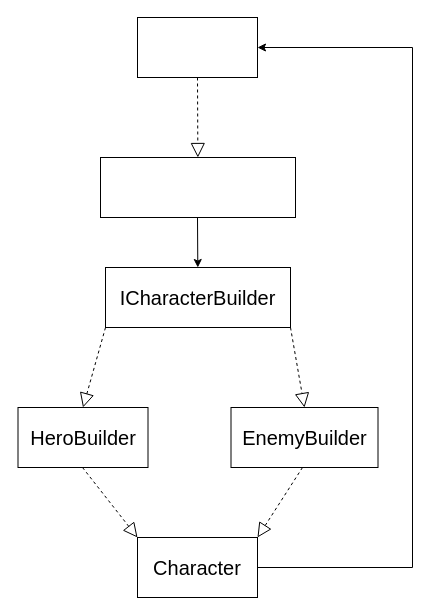
Image size: 438x615. Some labels were removed from this diagram. Each missing label, with the centre of its shape:
"CharacterDirector" goes at (198,187).
"Program" goes at (197,47).
